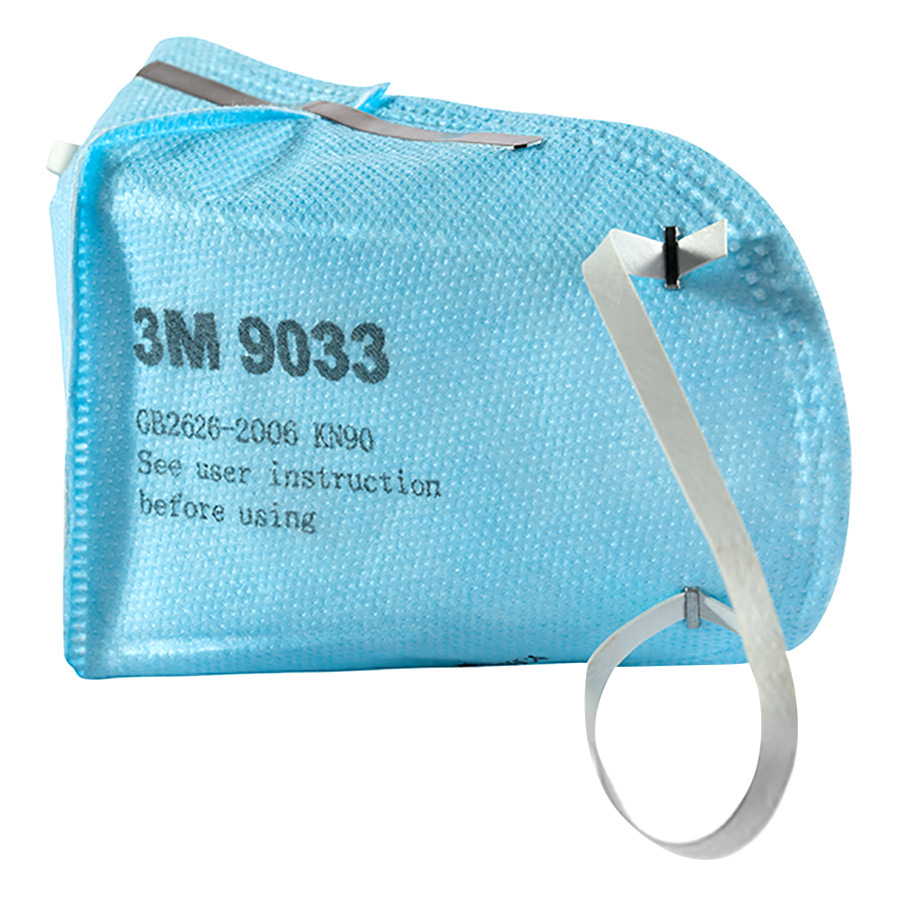3M: (126, 296, 228, 378)
